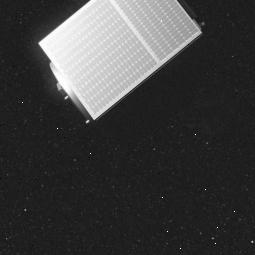cheops: (42, 0, 207, 120)
